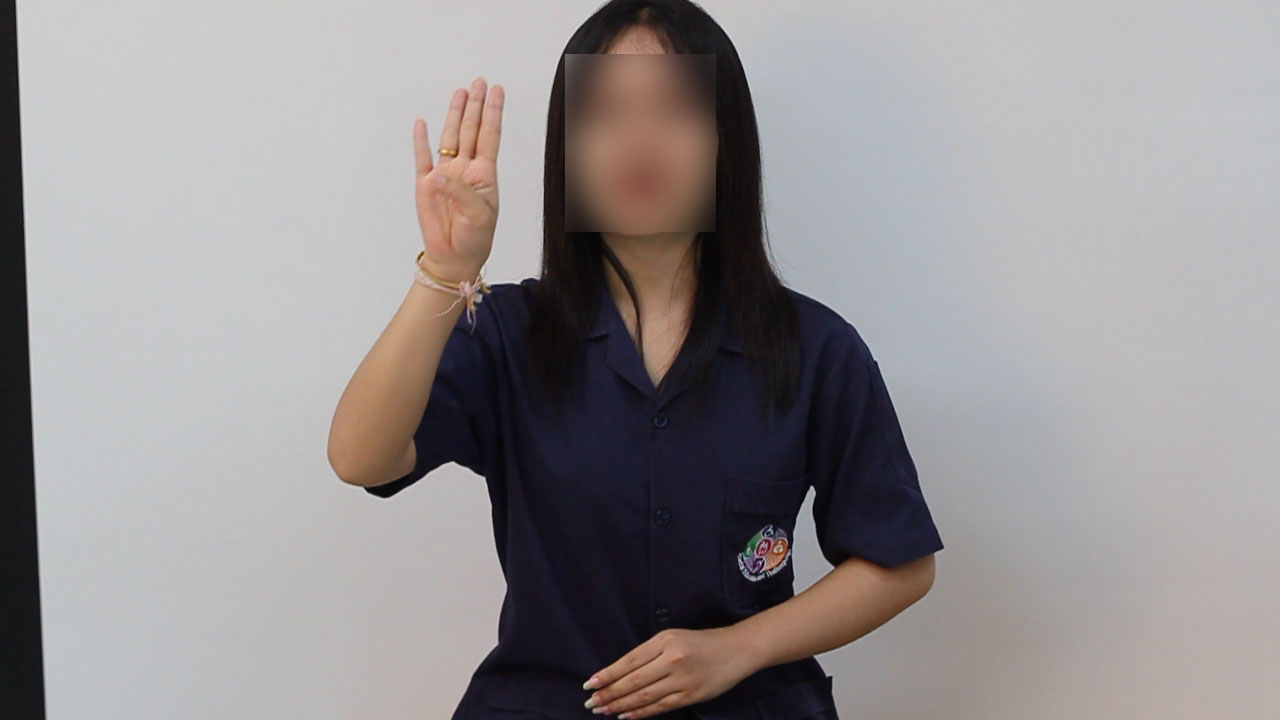bor: (395, 62, 516, 303)
